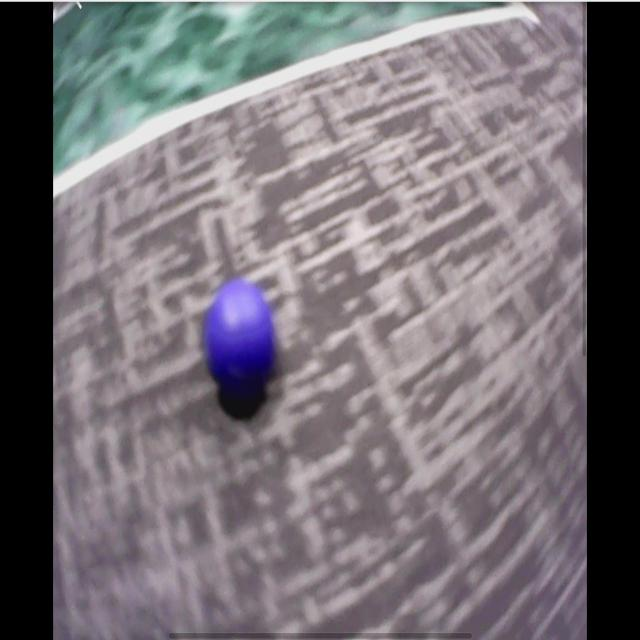ball: (209, 282, 275, 384)
